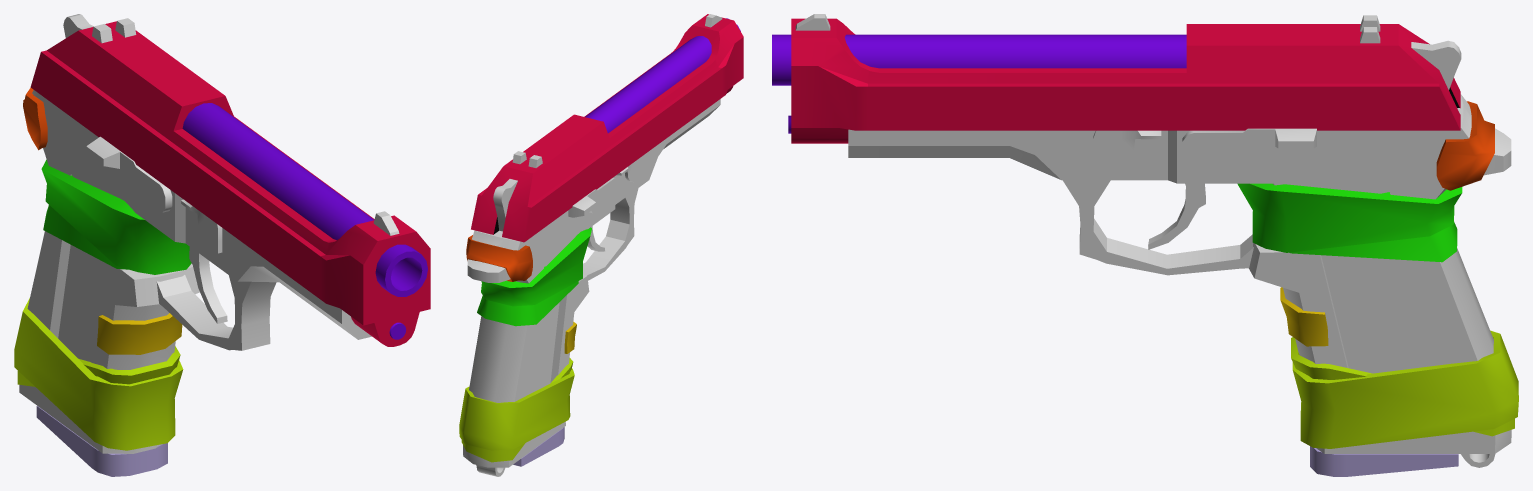
The model's file is pistol.glb.
3 renders of one model, left to right at view 1: azimuth 30°, elevation 25°; view 2: azimuth 150°, elevation 25°; view 3: azimuth 270°, elevation 25°, orthographic. The views are drawn at different scales.
Visible parts, largest first — view 1: Slide, Body, Cube, Barrel, Cube.007, Cube.002, Cube.006, MagButt, Cube.014, Cube.001, Cube.011, Trigger (+3 smaller); view 2: Slide, Body, Cube, Barrel, Cube.007, Cube.002, Cube.011, Cube.013, Cube.014, Cube.001, Cube.003, MagButt (+1 smaller); view 3: Slide, Body, Cube, Barrel, Cube.007, Cube.002, Cube.014, Cube.013, MagButt, Cube.011, Cube.015, Cube.006 (+3 smaller).
Boxes of the visible parts, x1,y1,x2,y2 form: Slide: [30, 21, 430, 346]; Body: [19, 90, 371, 453]; Cube: [14, 298, 183, 450]; Barrel: [182, 103, 427, 296]; Cube.007: [41, 159, 191, 274]; Cube.002: [154, 275, 276, 350]; Cube.006: [97, 313, 182, 354]; MagButt: [36, 406, 167, 476]; Cube.014: [86, 136, 172, 212]; Cube.001: [17, 346, 180, 386]; Cube.011: [43, 205, 128, 269]; Trigger: [189, 247, 227, 323]; Slide: [471, 14, 743, 242]; Body: [463, 99, 720, 467]; Cube: [459, 368, 574, 450]; Barrel: [585, 18, 740, 133]; Cube.007: [481, 227, 591, 306]; Cube.002: [583, 188, 638, 280]; Cube.011: [477, 281, 578, 326]; Cube.013: [466, 235, 532, 281]; Cube.014: [568, 178, 617, 217]; Cube.001: [461, 358, 573, 462]; Cube.003: [493, 179, 517, 231]; MagButt: [513, 427, 564, 466]; Slide: [791, 18, 1460, 143]; Body: [848, 94, 1511, 453]; Cube: [1292, 330, 1518, 448]; Barrel: [772, 34, 1186, 85]; Cube.007: [1237, 183, 1462, 252]; Cube.002: [1063, 180, 1253, 275]; Cube.014: [1182, 128, 1316, 161]; Cube.013: [1436, 101, 1494, 190]; MagButt: [1310, 446, 1458, 476]; Cube.011: [1289, 222, 1457, 262]; Cube.015: [1093, 130, 1161, 164]; Cube.006: [1280, 287, 1328, 346].
Bounding box in the file's own units: 0.1048 × 0.3937 × 0.5989.
